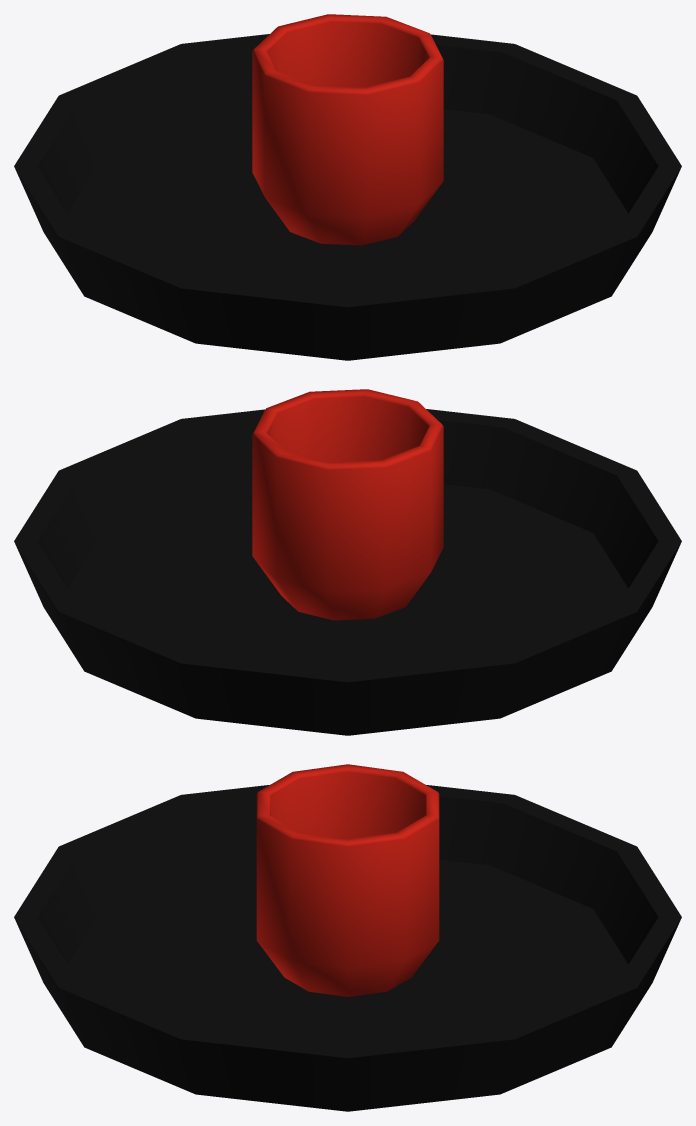
The model's file is khay coc ruou sake.FBX.
3 renders of one model, top to bottom at view 1: azimuth 30°, elevation 25°; view 2: azimuth 150°, elevation 25°; view 3: azimuth 270°, elevation 25°, orthographic.
Parts seen in each view (by area): view 1: Cylinder138; view 2: Cylinder138; view 3: Cylinder138.
Boxes of the visible parts, x1,y1,x2,y2 form: Cylinder138: (14,14,681,360); Cylinder138: (14,389,681,735); Cylinder138: (14,764,681,1111).
Bounding box in the file's own units: 2.1 × 0.621 × 2.1.
